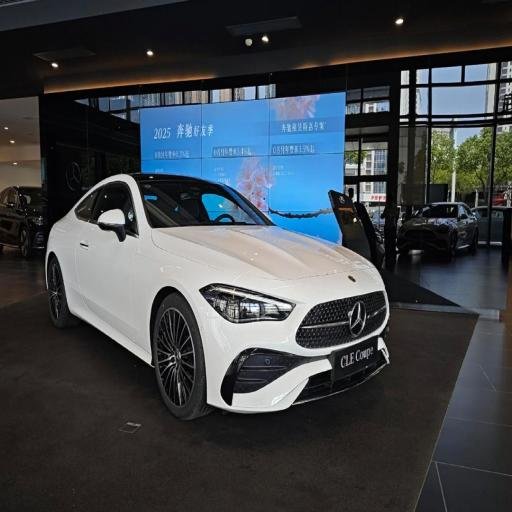coupe: (45, 172, 391, 425)
